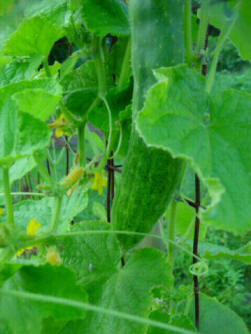cucumber: (105, 0, 198, 264)
